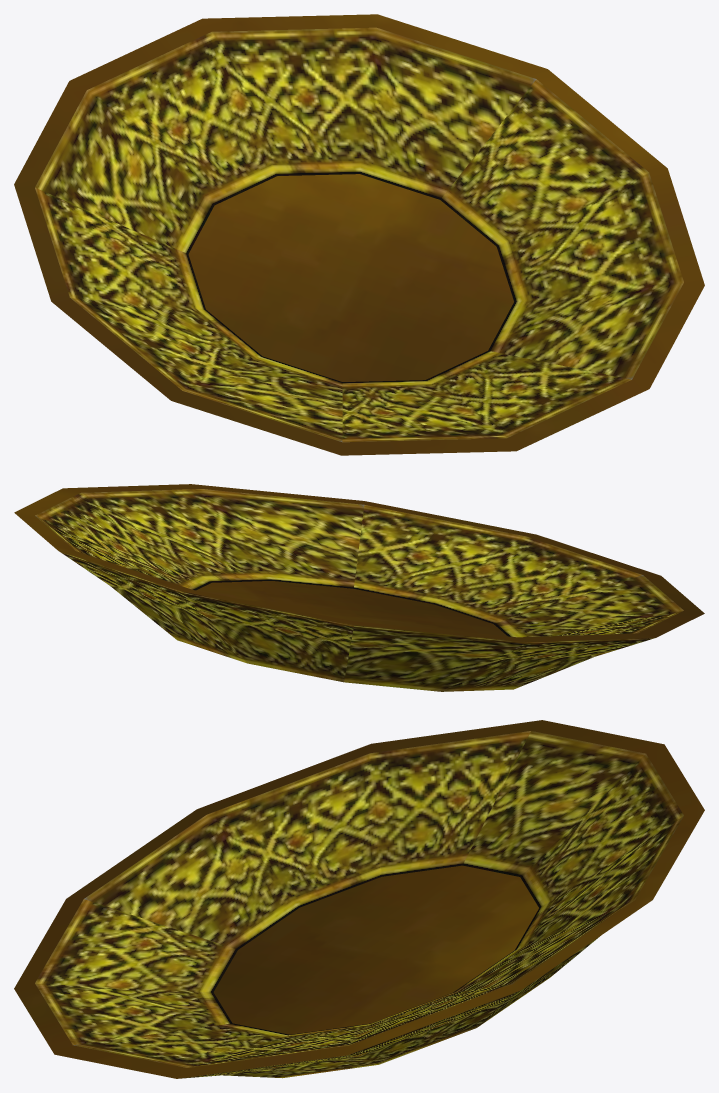
Rendered from GS_MISC_GOLDPLATE_01.glb.
3 renders of one model, top to bottom at view 1: azimuth 30°, elevation 25°; view 2: azimuth 150°, elevation 25°; view 3: azimuth 270°, elevation 25°, orthographic. The views are drawn at different scales.
Parts seen in each view (by area): view 1: GS_MISC_GOLDPLATE_01; view 2: GS_MISC_GOLDPLATE_01; view 3: GS_MISC_GOLDPLATE_01.
Boxes of the visible parts, <box> form: GS_MISC_GOLDPLATE_01: <box>14,14,704,455</box>; GS_MISC_GOLDPLATE_01: <box>14,484,704,691</box>; GS_MISC_GOLDPLATE_01: <box>14,720,704,1078</box>.
Size of the model in its own units: 0.3593 by 0.1237 by 0.344.
Materials: 1 (1 with a texture image).
